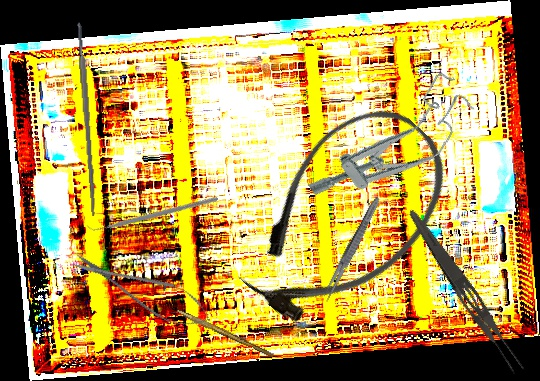Cannula: (213, 83, 475, 350)
Chopper: (84, 144, 219, 279)
Dressing Forceps: (399, 205, 530, 380), (320, 194, 383, 305)
Micro Scissor: (66, 242, 218, 338)
Scalpel Handle: (175, 308, 275, 359), (76, 21, 98, 217)
Speculum: (300, 68, 485, 227)
